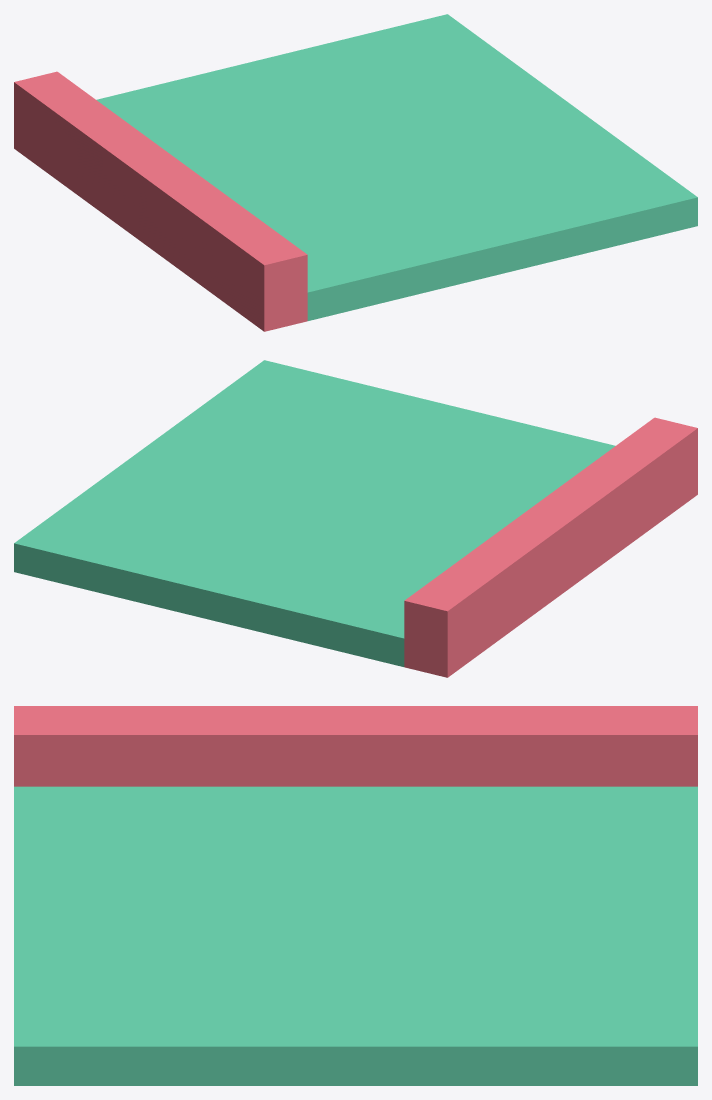
Rendered from side.glb.
3 views of the same model, one above another, from view 1: azimuth 30°, elevation 25°; view 2: azimuth 150°, elevation 25°; view 3: azimuth 270°, elevation 25° (orthographic). The views are drawn at different scales.
Parts seen in each view (by area): view 1: side; view 2: side; view 3: side.
Part boxes in pixels (x1,y1,x2,y2): side: (14, 14, 697, 331); side: (14, 360, 697, 677); side: (14, 706, 697, 1085).
Size of the model in its own units: 0.9999 by 0.1467 by 0.9999.
